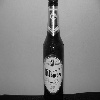beer: (40, 1, 71, 100)
